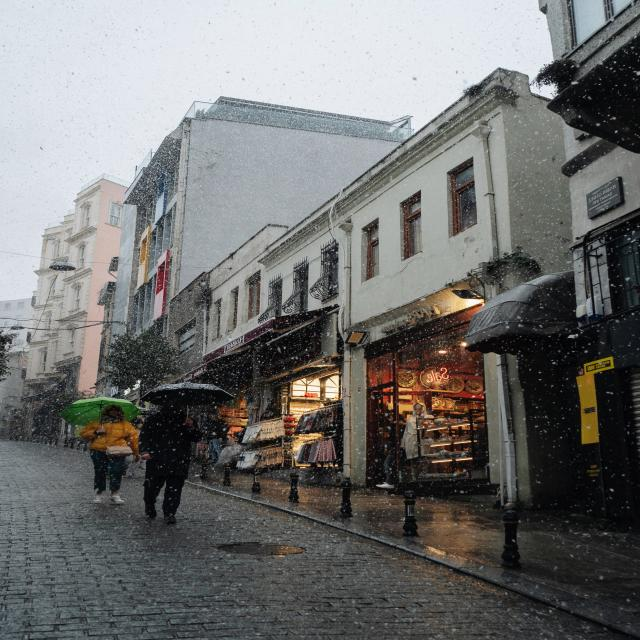adult: (138, 398, 200, 522), (82, 405, 138, 505)
